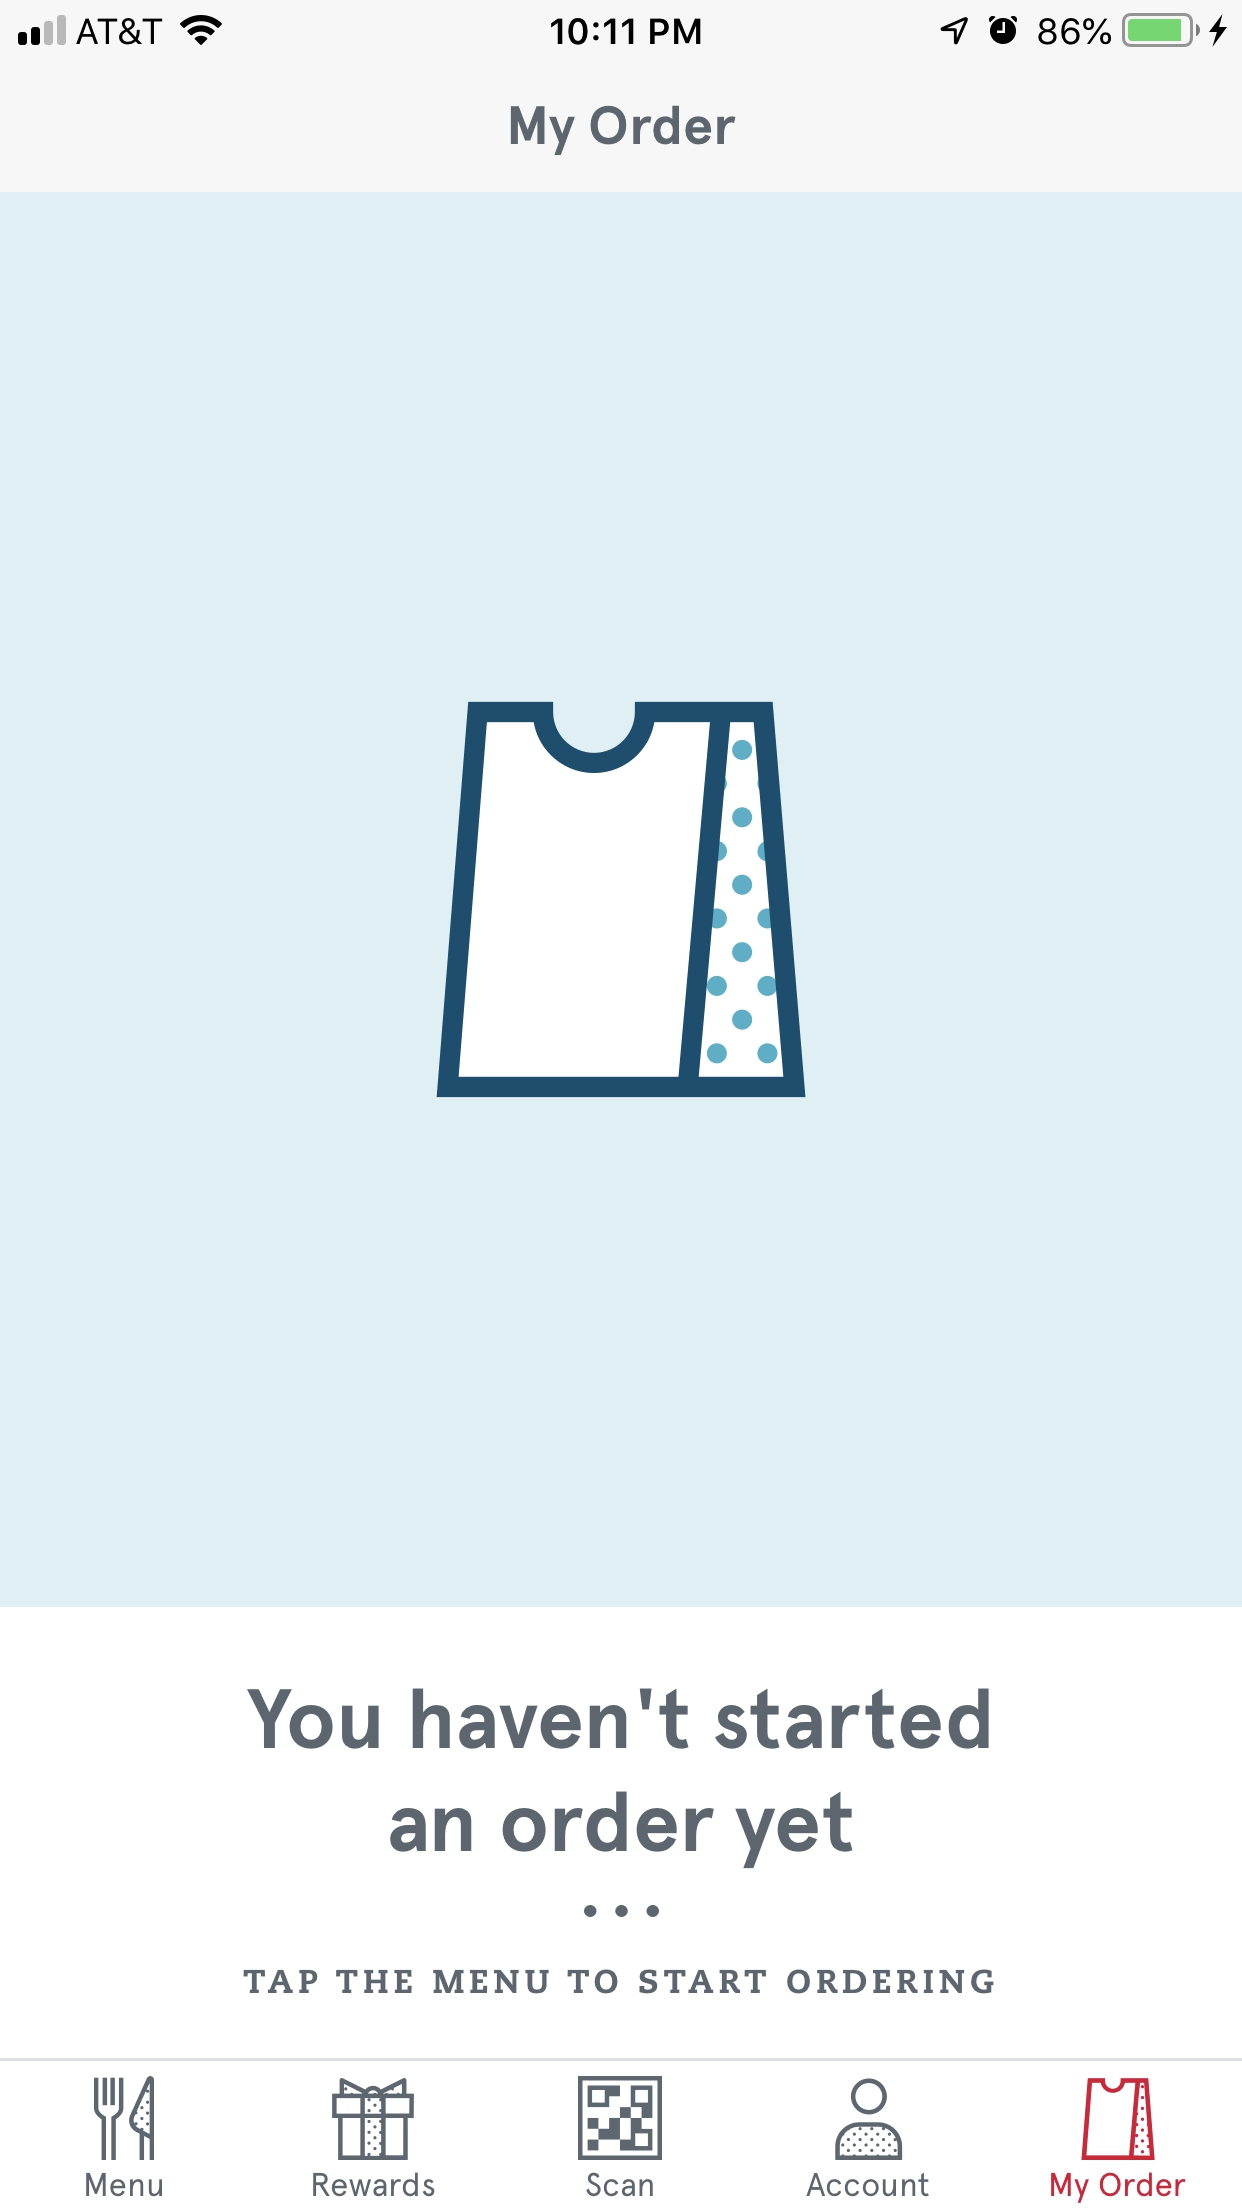Icon: (332, 2078, 416, 2161), (834, 2078, 902, 2161)
Image: (437, 701, 807, 1099), (576, 2075, 663, 2161), (1081, 2078, 1156, 2161), (94, 2075, 156, 2161)
PageIndicator: (582, 1905, 661, 1918)
Text: (247, 1686, 990, 1868), (243, 1968, 995, 1994), (510, 105, 737, 158), (1049, 2172, 1186, 2203), (312, 2172, 437, 2197), (805, 2172, 930, 2197), (86, 2172, 164, 2197), (585, 2172, 654, 2197)
UpperTaskBar: (2, 2, 1242, 49)
